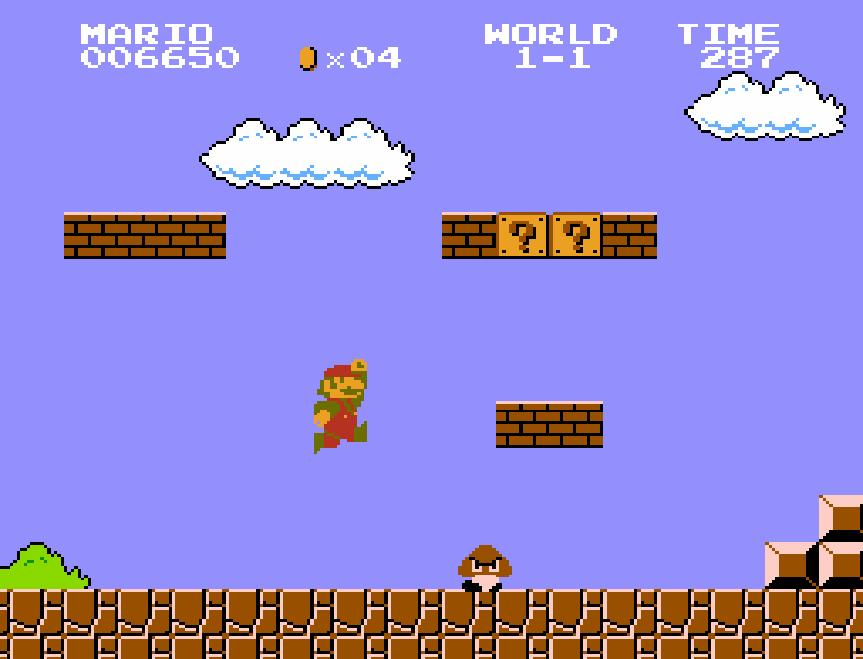big_mario: (311, 357, 369, 456)
